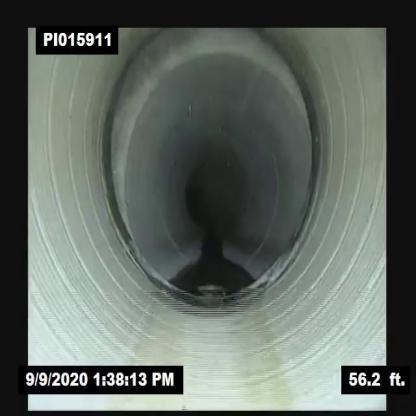jntoffs: (119, 32, 329, 174)
